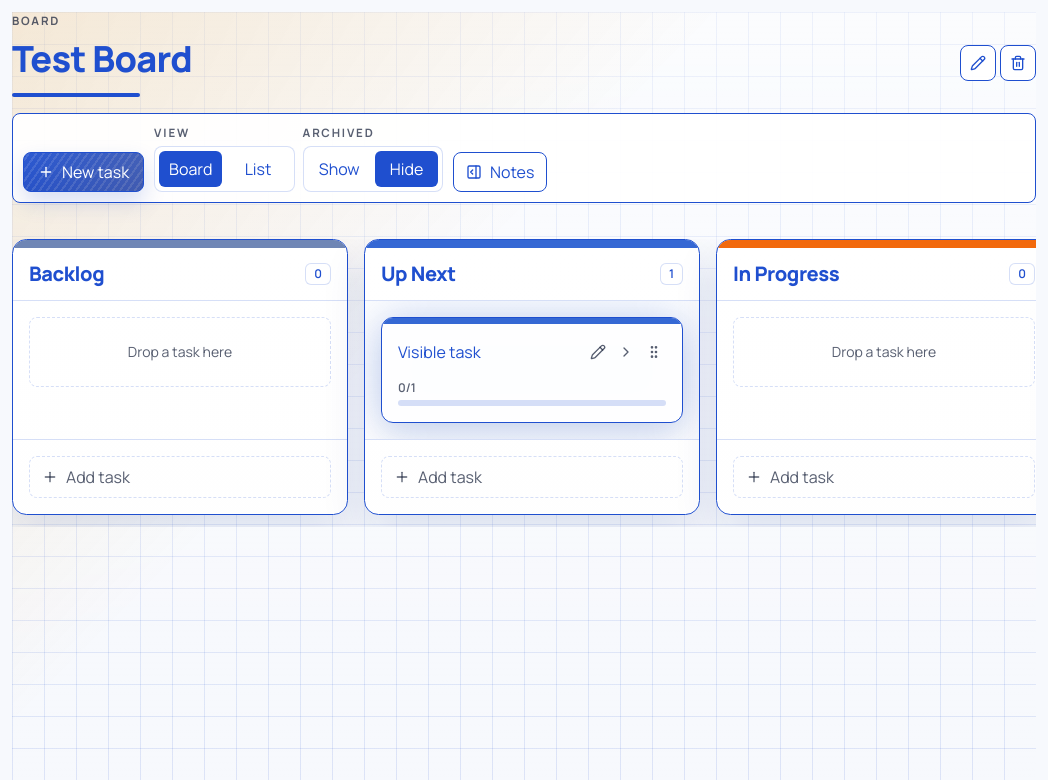
Test: SubtasksCardPanel remove and reorder › shows a success toast after removing a subtask
Click the button named "Open subtasks menu" at (626, 352), box [614,340,638,364]
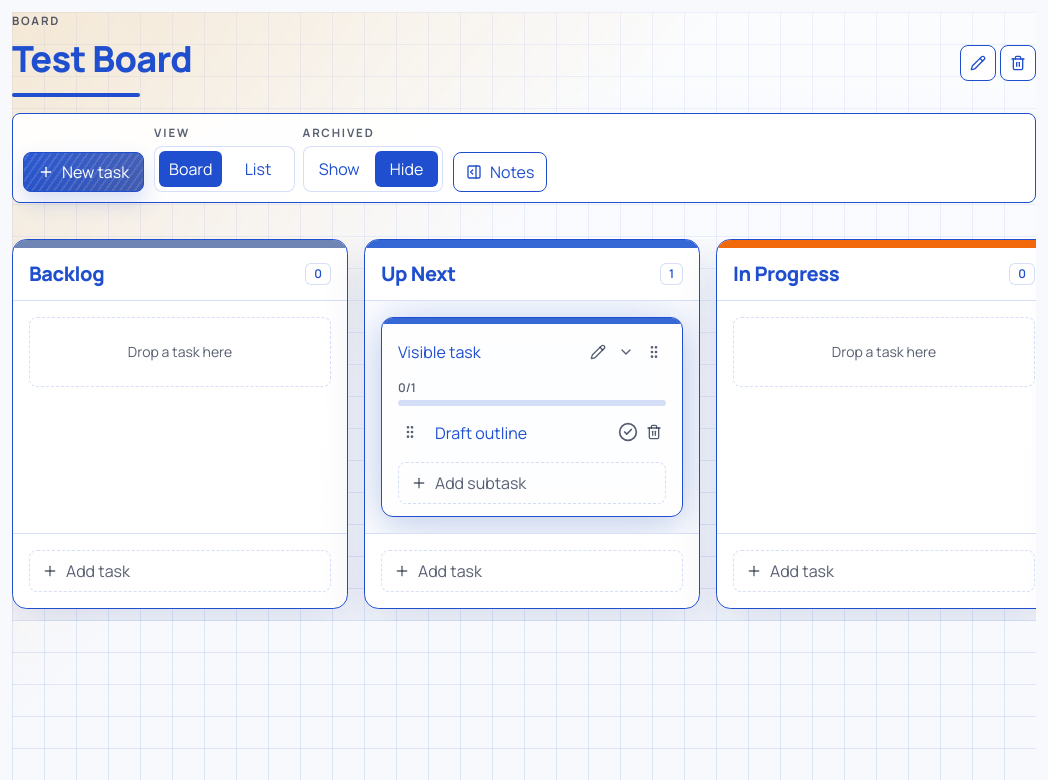
Click the button named "Remove subtask" at (654, 432), box [646,424,662,440]
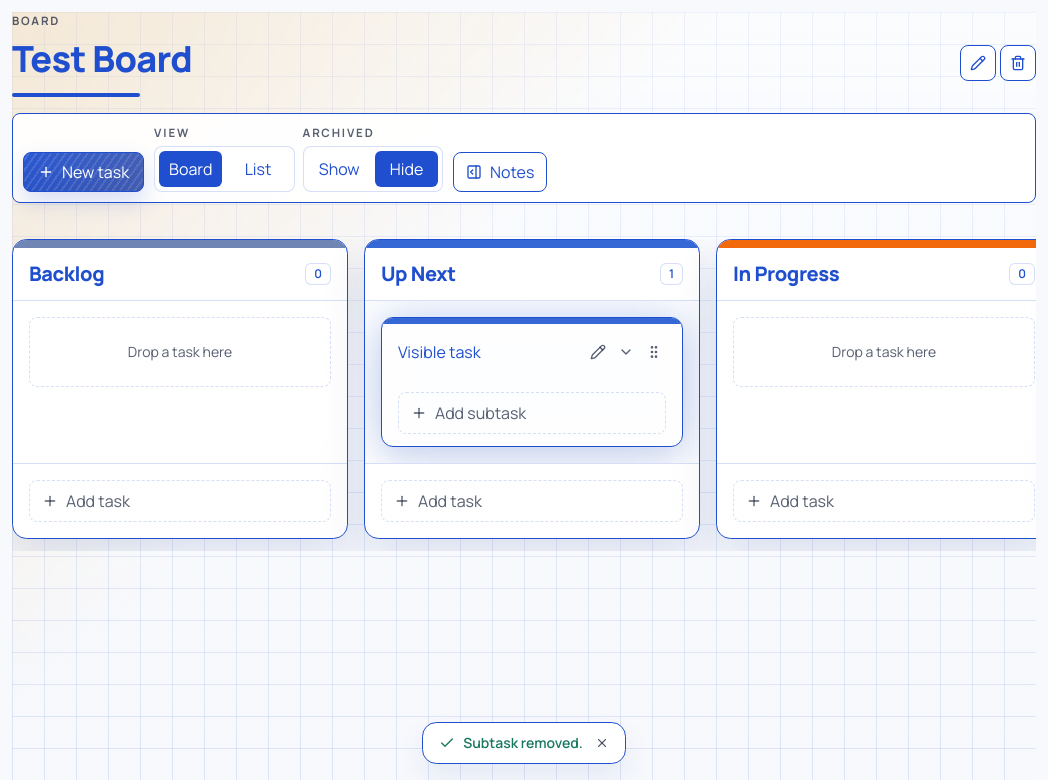
Check: the text "Subtask removed." is shown, box [463,733,583,753]
